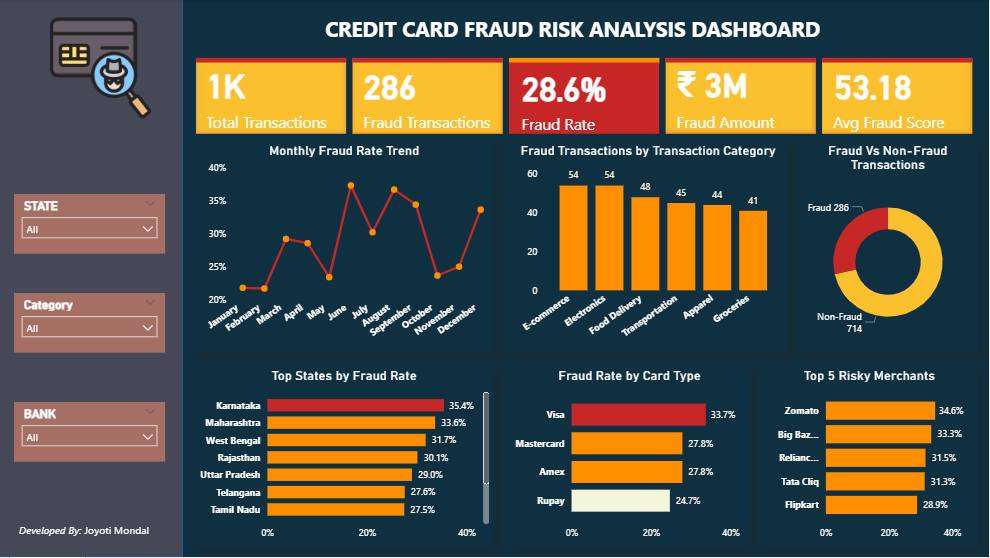

Layout of this report page (visuals, bound fields, positions):
{"tool":"powerbi","page":{"name":"Page 1","canvas":[1280,720],"ordinal":0},"visuals":[{"type":"shape","box":[0,0,240.2,720.6],"z":0},{"type":"textbox","box":[315.8,15.1,844.9,57.1],"z":1},{"type":"cardVisual","fields":{"Data":["_Key_Measures.Total Transactions","_Key_Measures.Fraud Transactions","_Key_Measures.Fraud Rate","_Key_Measures.Fraud Amount","_Key_Measures.Avg Fraud Score"]},"box":[251.9,71.6,1013,108.7],"z":2},{"type":"slicer","fields":{"Values":["clean_credit_card_fraud_analysis.state"]},"box":[22,251.9,195.4,77.1],"z":3},{"type":"slicer","fields":{"Values":["clean_credit_card_fraud_analysis.transaction_category"]},"box":[22,379.9,195.4,77.1],"z":4},{"type":"slicer","fields":{"Values":["clean_credit_card_fraud_analysis.bank"]},"box":[22,520.3,195.4,77.1],"z":5},{"type":"image","box":[0,15.6,267.9,147.4],"z":6},{"type":"textbox","box":[22.7,670.4,178.6,49.6],"z":7},{"type":"lineChart","title":"Monthly Fraud Rate Trend","fields":{"Category":["clean_credit_card_fraud_analysis.transaction_date.Variation.Date Hierarchy.Month"],"Y":["_Key_Measures.Fraud Rate"]},"box":[252.3,181.4,388.3,275],"z":8},{"type":"clusteredColumnChart","title":"Fraud Transactions by Transaction Category","fields":{"Category":["clean_credit_card_fraud_analysis.transaction_category"],"Y":["_Key_Measures.Fraud Transactions"]},"box":[659.1,181.4,360,275],"z":9},{"type":"donutChart","title":"Fraud Vs Non-Fraud Transactions","fields":{"Category":["clean_credit_card_fraud_analysis.Fraud Status"],"Y":["_Key_Measures.Total Transactions"]},"box":[1030.4,181.4,235.3,275],"z":10},{"type":"clusteredBarChart","title":"Top States by Fraud Rate","fields":{"Category":["clean_credit_card_fraud_analysis.state"],"Y":["_Key_Measures.Fraud Rate"]},"box":[252.3,472,388.3,235.3],"z":11},{"type":"clusteredBarChart","title":"Fraud Rate by Card Type","fields":{"Y":["_Key_Measures.Fraud Rate"],"Category":["clean_credit_card_fraud_analysis.card_type"]},"box":[659.1,472,311.8,235.3],"z":12},{"type":"clusteredBarChart","title":"Top 5 Risky Merchants","fields":{"Y":["_Key_Measures.Fraud Rate"],"Category":["clean_credit_card_fraud_analysis.merchant_name"]},"box":[985,472,280.6,235.3],"z":13}]}

Visuals, with their boxes in screenshot pixels (x1, y1, x2, y2), scaled from the page's 1280x720 canvas onto the 990x558 screenshot:
shape: l=0, t=0, r=186, b=557
textbox: l=244, t=12, r=898, b=56
cardVisual - _Key_Measures.Total Transactions x _Key_Measures.Fraud Transactions: l=195, t=55, r=978, b=140
slicer - clean_credit_card_fraud_analysis.state: l=17, t=195, r=168, b=255
slicer - clean_credit_card_fraud_analysis.transaction_category: l=17, t=294, r=168, b=354
slicer - clean_credit_card_fraud_analysis.bank: l=17, t=403, r=168, b=463
image: l=0, t=12, r=207, b=126
textbox: l=18, t=520, r=156, b=557
"Monthly Fraud Rate Trend" lineChart: l=195, t=141, r=495, b=354
"Fraud Transactions by Transaction Category" clusteredColumnChart: l=510, t=141, r=788, b=354
"Fraud Vs Non-Fraud Transactions" donutChart: l=797, t=141, r=979, b=354
"Top States by Fraud Rate" clusteredBarChart: l=195, t=366, r=495, b=548
"Fraud Rate by Card Type" clusteredBarChart: l=510, t=366, r=751, b=548
"Top 5 Risky Merchants" clusteredBarChart: l=762, t=366, r=979, b=548
